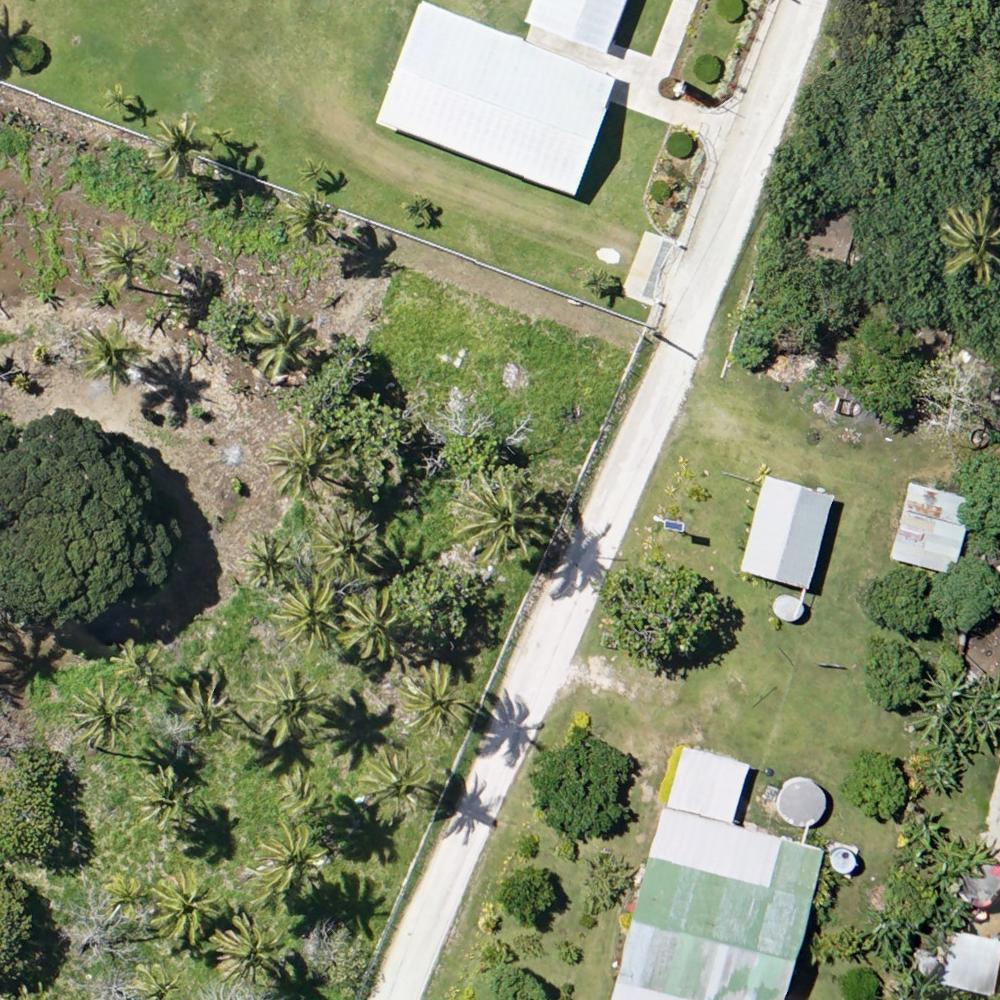Palm: (447, 471, 541, 562), (146, 860, 221, 947), (358, 750, 437, 829), (401, 663, 478, 744), (243, 299, 319, 377), (254, 819, 334, 891), (251, 669, 324, 746), (216, 914, 292, 986), (307, 507, 379, 580), (268, 429, 343, 499), (934, 201, 1000, 278), (90, 224, 159, 293), (65, 682, 134, 750), (335, 593, 405, 660), (82, 318, 150, 386), (165, 675, 237, 738), (278, 580, 340, 649), (149, 111, 207, 174), (239, 533, 300, 590), (284, 192, 336, 246), (113, 641, 164, 694), (99, 84, 131, 117)
